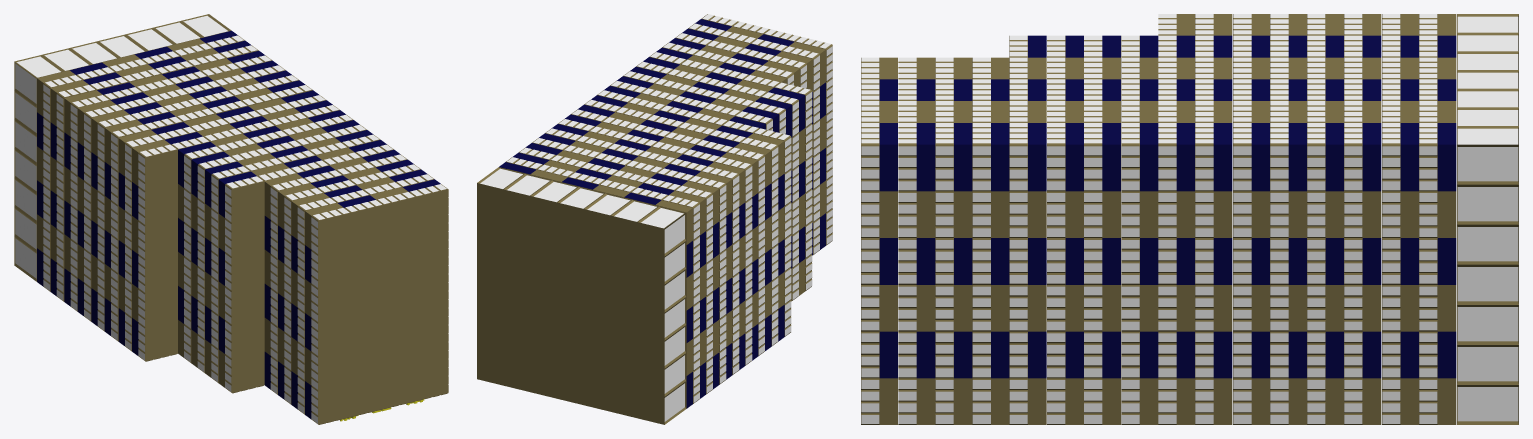
The model's file is 数码港.glb.
The picture shows the model from 3 angles, left to right: view 1: azimuth 30°, elevation 25°; view 2: azimuth 150°, elevation 25°; view 3: azimuth 270°, elevation 25°; orthographic projection. The views are drawn at different scales.
Visible parts, largest first — view 1: 二楼以上; view 2: 二楼以上; view 3: 二楼以上.
Boxes of the visible parts, box(x1,y1,x2,y2) form: 二楼以上: box(14, 14, 448, 424); 二楼以上: box(477, 14, 832, 424); 二楼以上: box(861, 14, 1518, 424).
Bounding box in the file's own units: 50.25 × 51.02 × 106.
